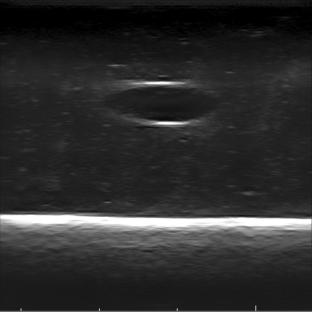vessel: (105, 81, 220, 128)
